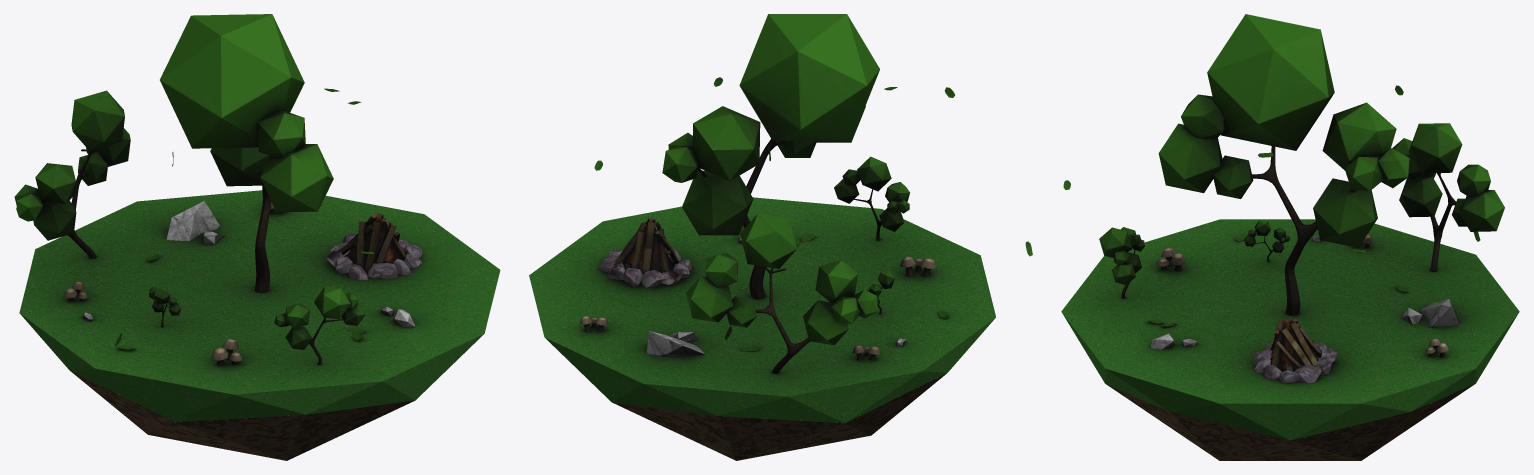
File: SpaziEsterni.glb
3 views of the same model, side by side, from view 1: azimuth 30°, elevation 25°; view 2: azimuth 150°, elevation 25°; view 3: azimuth 270°, elevation 25° (orthographic). The views are drawn at different scales.
Visible parts, largest first — view 1: Spazi_Esterni; view 2: Spazi_Esterni; view 3: Spazi_Esterni.
Boxes of the visible parts, x1,y1,x2,y2 form: Spazi_Esterni: (14, 14, 500, 460); Spazi_Esterni: (529, 14, 1032, 460); Spazi_Esterni: (1061, 14, 1519, 460).
Bounding box in the file's own units: 38.94 × 39.28 × 40.07.
10 materials, 10 textured.
